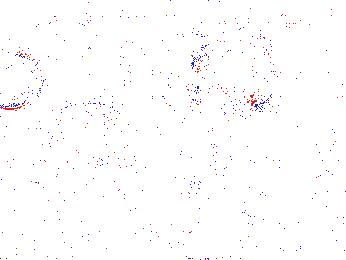moon jellyfish: (193, 38, 276, 108), (54, 102, 136, 168), (112, 41, 199, 98), (1, 50, 46, 112)
